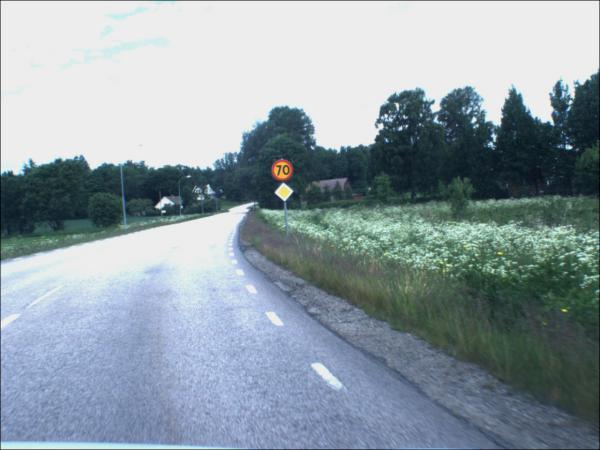70_SIGN: (273, 160, 295, 182)
PRIORITY_ROAD: (275, 184, 295, 203)
